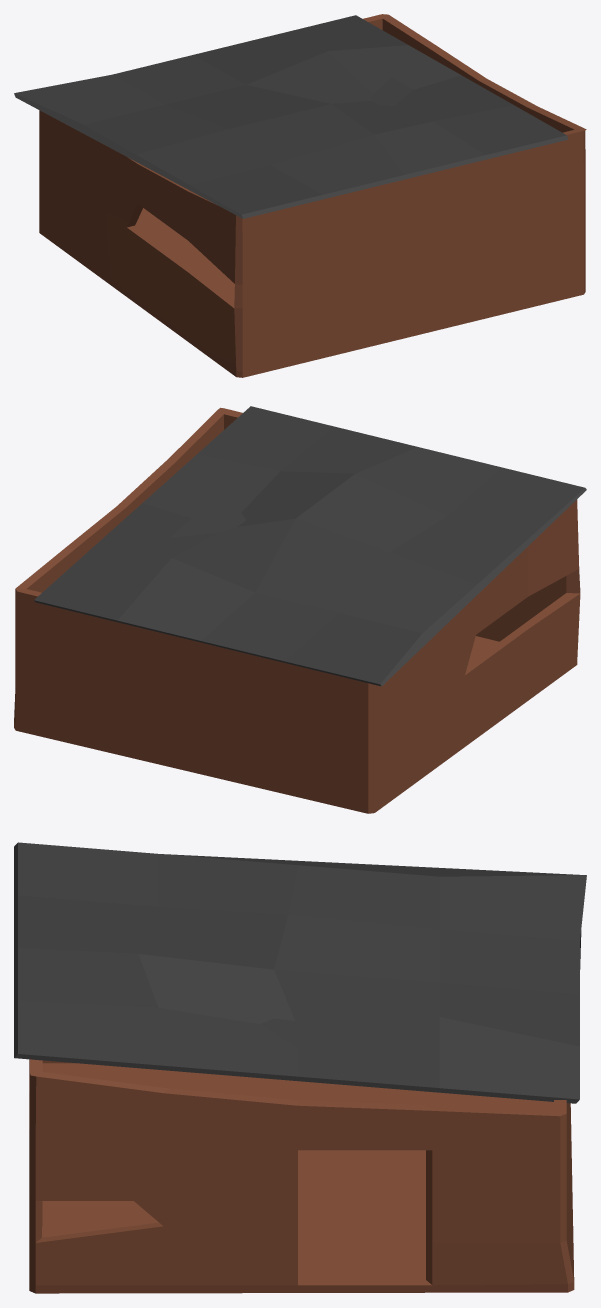
Rendered from CerbBuilding.fbx.
The picture shows the model from 3 angles, top to bottom: view 1: azimuth 30°, elevation 25°; view 2: azimuth 150°, elevation 25°; view 3: azimuth 270°, elevation 25°; orthographic projection. The views are drawn at different scales.
Parts seen in each view (by area): view 1: Cube; view 2: Cube; view 3: Cube.
Part boxes in pixels (x1,y1,x2,y2): Cube: [14, 14, 586, 377]; Cube: [14, 406, 586, 813]; Cube: [14, 842, 586, 1293].
Size of the model in its own units: 1380 by 618 by 1410.
